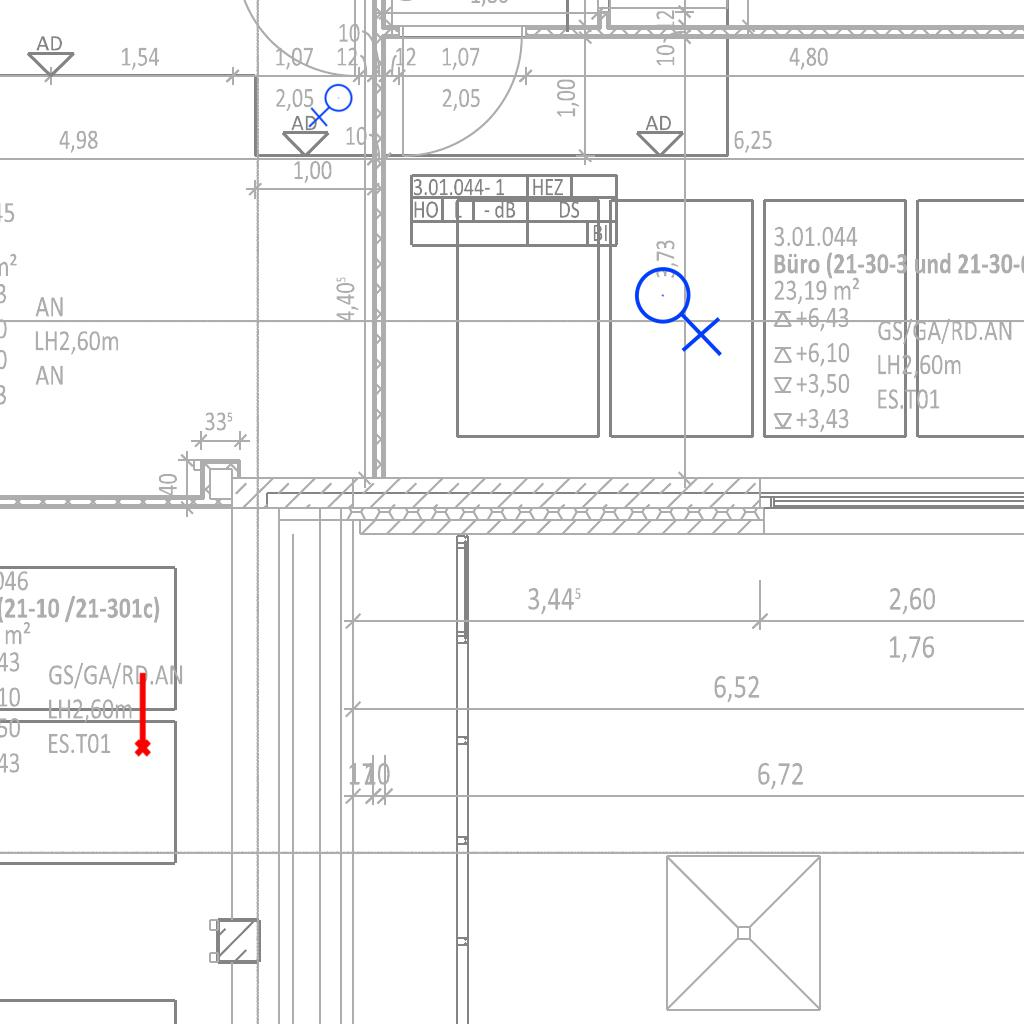ASR_Ansaugoeffnung: (130, 670, 153, 758)
Elektroanschluss_allgemein_230V_Geraeteanschlussdose_230V: (633, 258, 727, 357), (308, 83, 357, 130)
